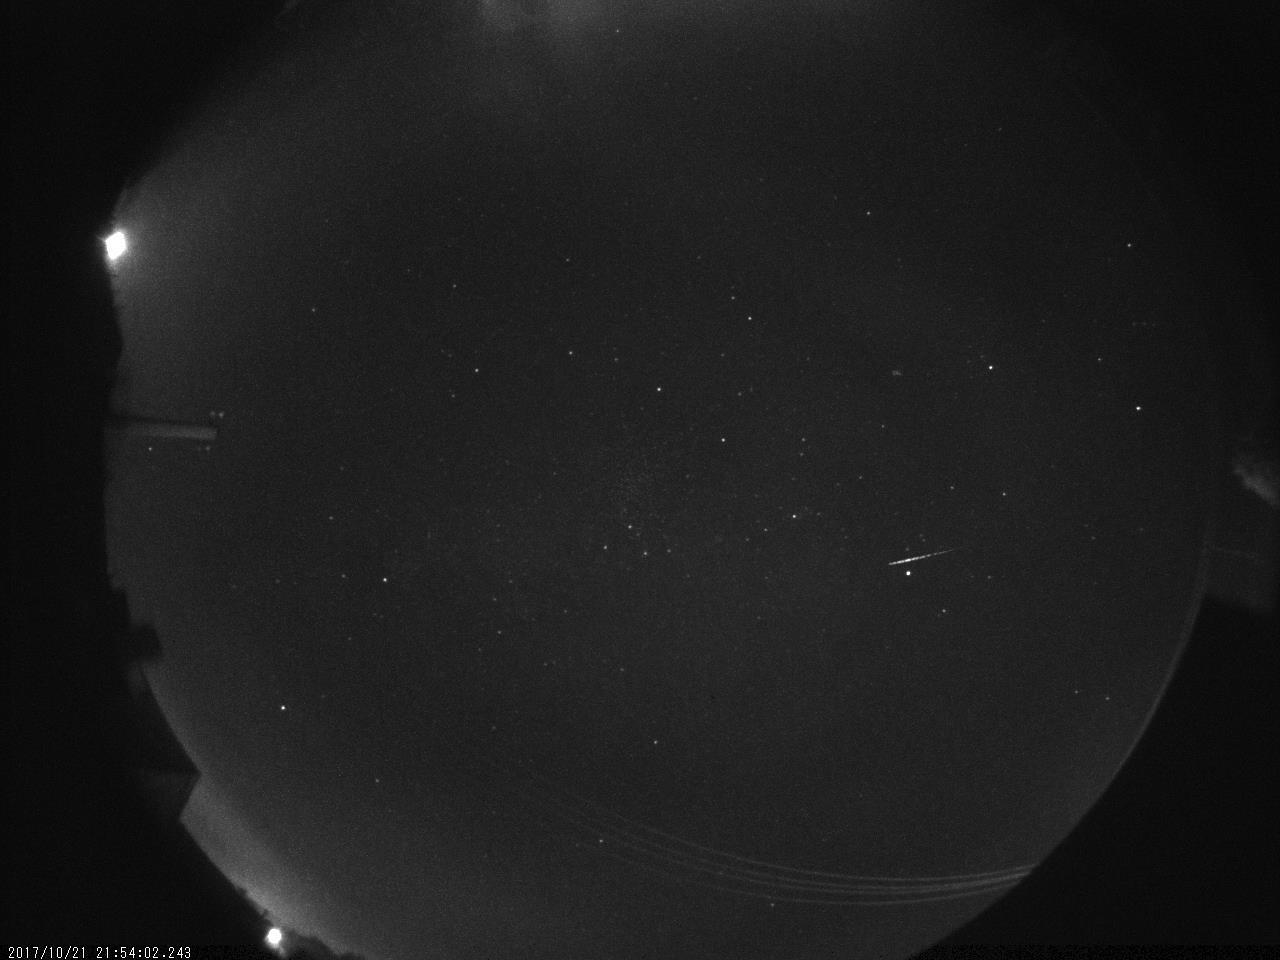Meteor: (881, 544, 962, 577)
